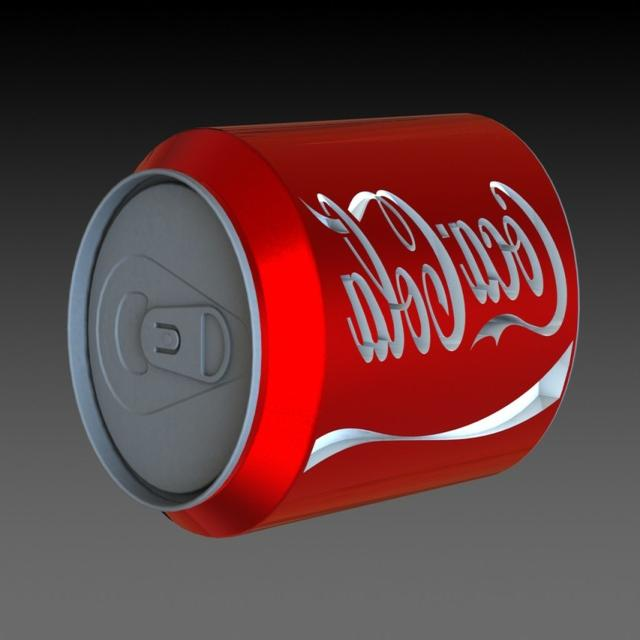cocacola: (51, 98, 586, 555)
